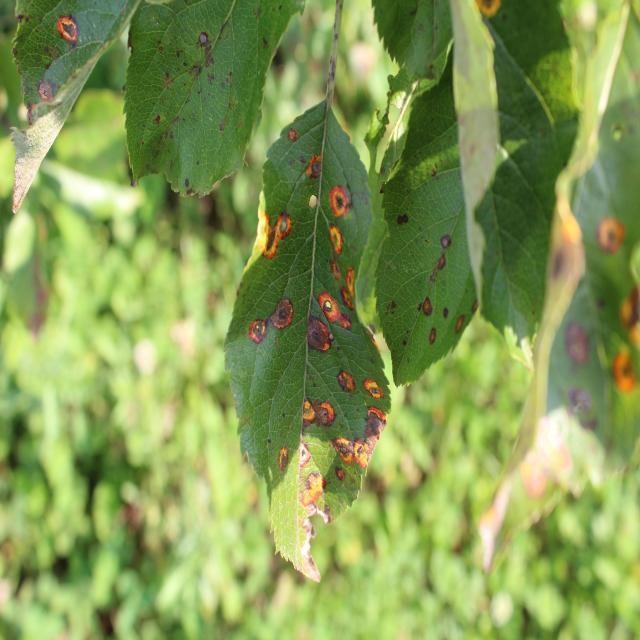rust: (224, 98, 392, 585), (469, 1, 582, 372), (121, 0, 306, 200), (374, 37, 478, 389), (10, 0, 139, 218)
